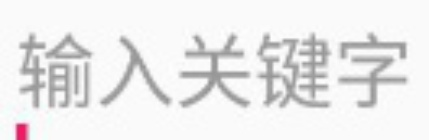TextView: (1, 1, 428, 139)
